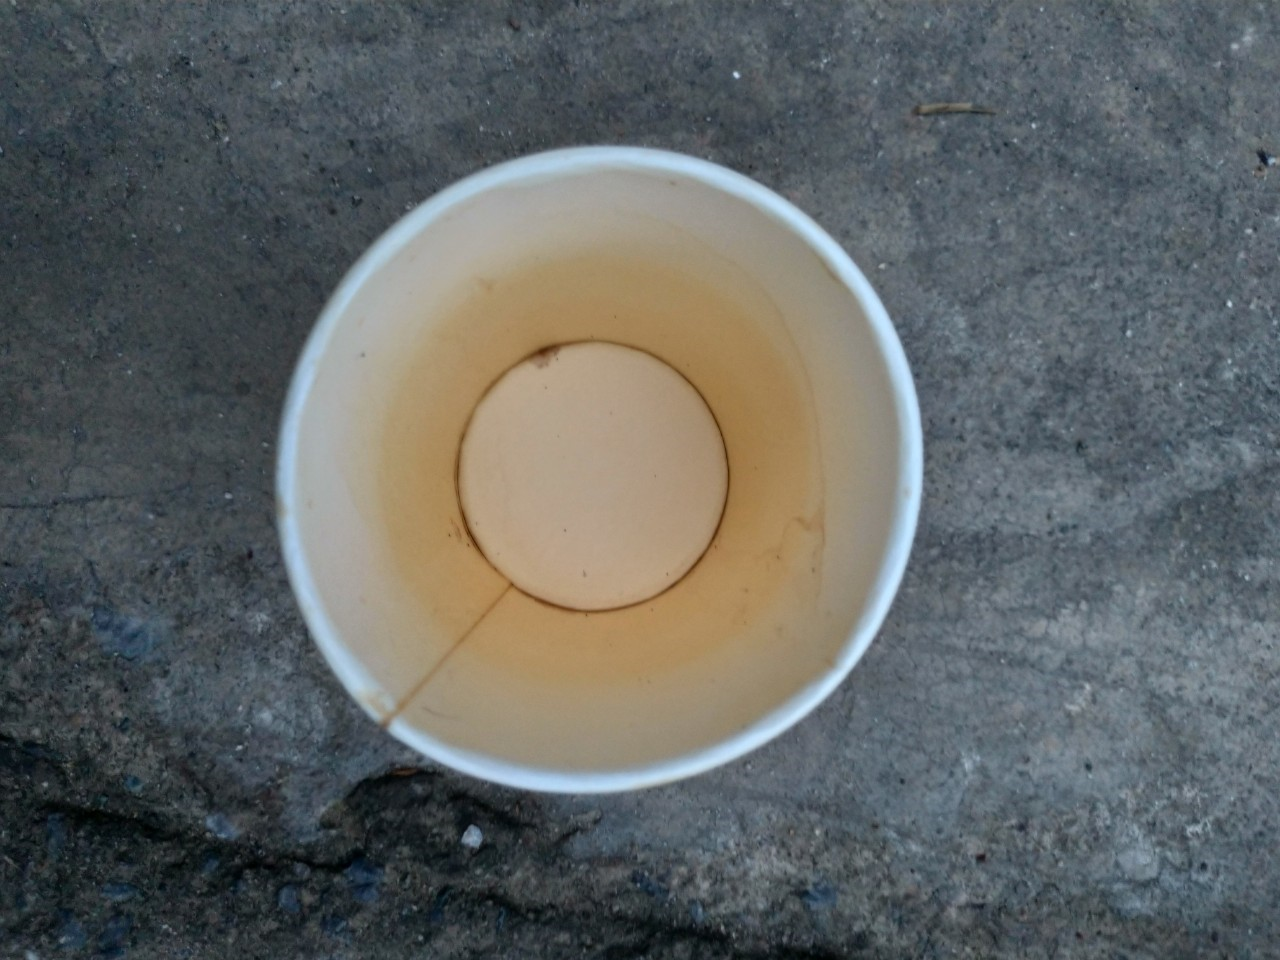PaperCup: (268, 144, 920, 790)
